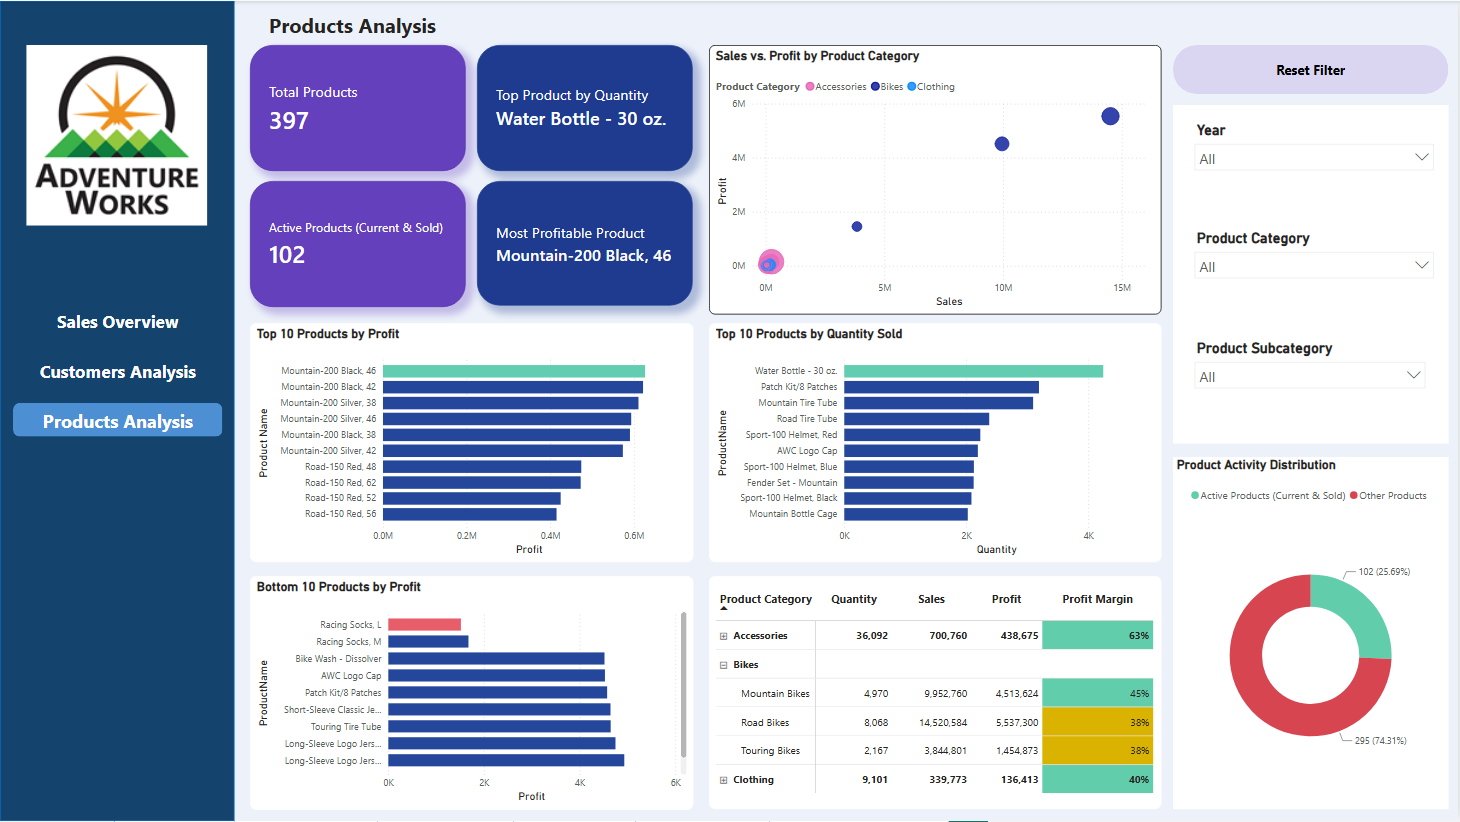

The dashboard page shown, as its layout file describes it:
{"tool":"powerbi","page":{"name":"Products Analysis","canvas":[1920,1080],"ordinal":2},"visuals":[{"type":"shape","box":[0,0,308.8,1080],"z":0},{"type":"barChart","title":"Top 10 Products by Quantity Sold","fields":{"Category":["Products Lookup.ProductName"],"Y":["Table Measures.# Total Quantity"]},"box":[934.1,424,596.1,314.9],"z":1000},{"type":"cardVisual","fields":{"Data":["Table Measures.# Total Product"]},"box":[329.4,57.9,283.7,165.9],"z":2000},{"type":"cardVisual","fields":{"Data":["Table Measures.Active Product (Current & Sold)"]},"box":[328.6,236.6,283.7,165.9],"z":3000},{"type":"cardVisual","fields":{"Data":["Table Measures.Top Selling Product by Quantity"]},"box":[628.3,58.4,283.7,165.9],"z":4000},{"type":"cardVisual","fields":{"Data":["Table Measures.Most Profitable Product"]},"box":[628.3,236.6,283.7,164],"z":5000},{"type":"barChart","title":"Top 10 Products by Profit","fields":{"Category":["Products Lookup.ProductName"],"Y":["Table Measures.$ Total profit"]},"box":[328.8,424,583.8,314.9],"z":6000},{"type":"textbox","box":[349.2,7.8,307.3,51.2],"z":7000},{"type":"pageNavigator","box":[16.9,399.4,276.5,176.7],"z":8000},{"type":"shape","box":[1545.5,136.7,362.6,445.5],"z":9000},{"type":"slicer","fields":{"Values":["Date Lookup.Date.Variation.Date Hierarchy.Year"]},"box":[1563.9,153.6,334.9,96.8],"z":10000},{"type":"pivotTable","title":"Category Performance Summary","fields":{"Rows":["Product Categories Lookup.EnglishProductCategoryName","Product SubCategories Lookup.EnglishProductSubcategoryName"],"Values":["Table Measures.# Total Quantity","Table Measures.$ Total Sales","Table Measures.$ Total profit","Table Measures.% Profit Margin"]},"box":[934,757.9,596.1,307.3],"z":11000},{"type":"slicer","fields":{"Values":["Product Categories Lookup.EnglishProductCategoryName"]},"box":[1563.9,296.5,334.9,86],"z":12000},{"type":"slicer","fields":{"Values":["Product SubCategories Lookup.EnglishProductSubcategoryName"]},"box":[1563.9,440.9,324.2,95.2],"z":13000},{"type":"actionButton","box":[1545.5,58.4,362.6,64.5],"z":14000},{"type":"image","box":[15.4,58.4,276.5,238.1],"z":15000},{"type":"clusteredBarChart","title":"Bottom 10 Products by Profit","fields":{"Category":["Products Lookup.ProductName"],"Y":["Table Measures.$ Total Profit"]},"box":[328.6,757.2,584.3,307.5],"z":16000},{"type":"scatterChart","title":"Sales vs. Profit by Product Category","fields":{"Series":["Product Categories Lookup.EnglishProductCategoryName"],"X":["Table Measures.$ Total Sales"],"Y":["Table Measures.$ Total Profit"],"Size":["Table Measures.# Total Quantity"],"Category":["Product SubCategories Lookup.EnglishProductSubcategoryName"]},"box":[934.1,58.4,596.1,354.9],"z":17000},{"type":"donutChart","title":"Product Activity Distribution","fields":{"Y":["Table Measures.Active Product (Current & Sold)","Table Measures.Other Products"]},"box":[1545.5,600.7,362.6,464],"z":18000}]}

Visuals, with their boxes in screenshot pixels (x1, y1, x2, y2), scaled from the page's 1920x1080 canvas onto the 1460x822 screenshot:
shape: <region>0, 0, 235, 821</region>
"Top 10 Products by Quantity Sold" barChart: <region>710, 323, 1164, 562</region>
cardVisual - Table Measures.# Total Product: <region>250, 44, 466, 170</region>
cardVisual - Table Measures.Active Product (Current & Sold): <region>250, 180, 466, 306</region>
cardVisual - Table Measures.Top Selling Product by Quantity: <region>478, 44, 694, 171</region>
cardVisual - Table Measures.Most Profitable Product: <region>478, 180, 694, 305</region>
"Top 10 Products by Profit" barChart: <region>250, 323, 694, 562</region>
textbox: <region>266, 6, 499, 45</region>
pageNavigator: <region>13, 304, 223, 438</region>
shape: <region>1175, 104, 1451, 443</region>
slicer - Date Lookup.Date.Variation.Date Hierarchy.Year: <region>1189, 117, 1444, 191</region>
"Category Performance Summary" pivotTable: <region>710, 577, 1164, 811</region>
slicer - Product Categories Lookup.EnglishProductCategoryName: <region>1189, 226, 1444, 291</region>
slicer - Product SubCategories Lookup.EnglishProductSubcategoryName: <region>1189, 336, 1436, 408</region>
actionButton: <region>1175, 44, 1451, 94</region>
image: <region>12, 44, 222, 226</region>
"Bottom 10 Products by Profit" clusteredBarChart: <region>250, 576, 694, 810</region>
"Sales vs. Profit by Product Category" scatterChart: <region>710, 44, 1164, 315</region>
"Product Activity Distribution" donutChart: <region>1175, 457, 1451, 810</region>
